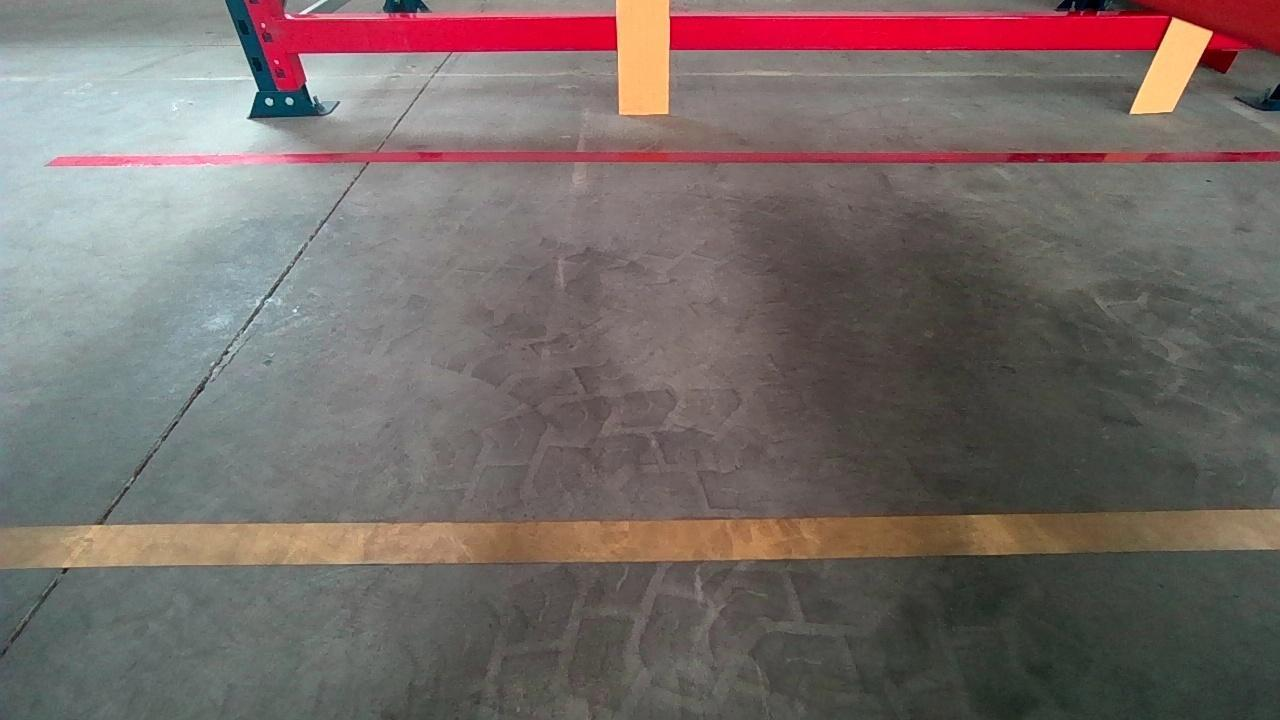h_rack: (289, 8, 1141, 54)
orange_strip: (1131, 17, 1215, 110), (617, 0, 671, 111)
red_line: (78, 145, 1256, 168)
yellow_line: (7, 507, 1265, 575)
